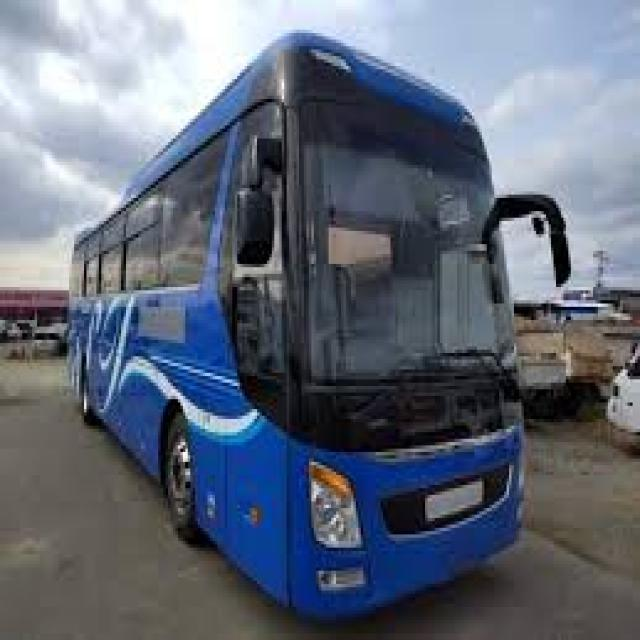bus: (39, 15, 595, 640)
